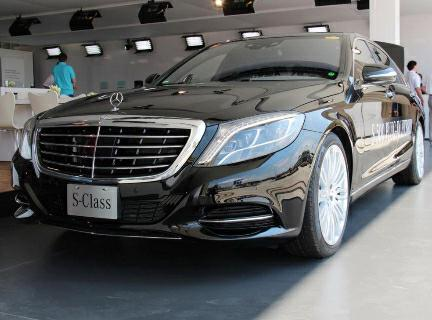奔驰-S级新能源: (10, 28, 428, 265)
